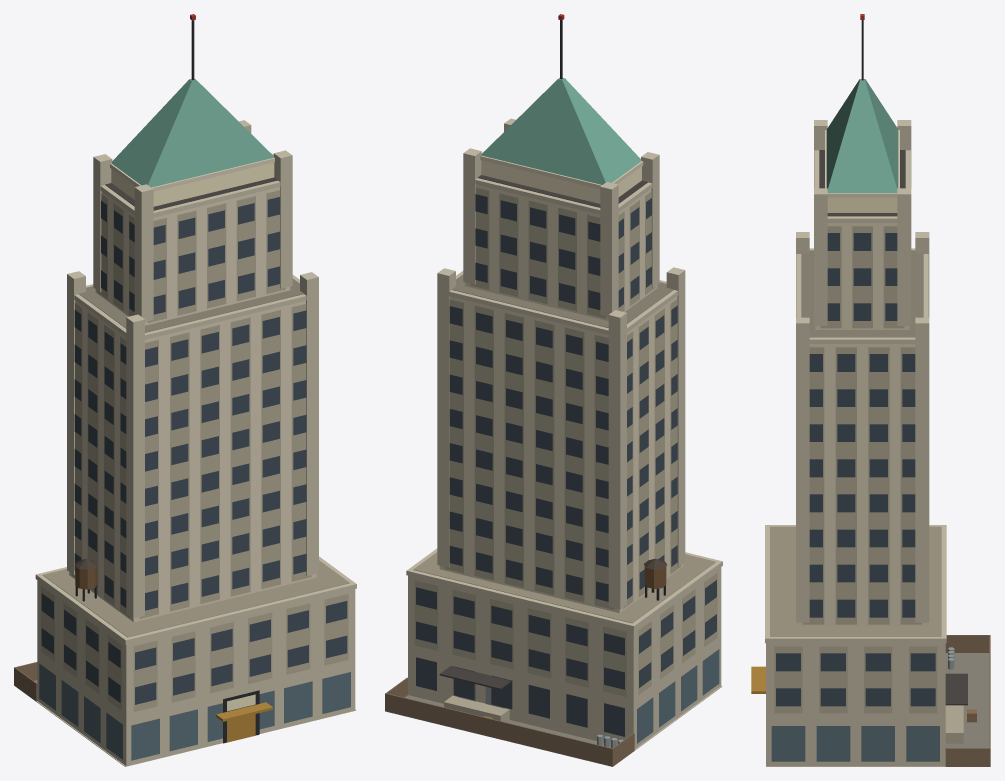
The model's file is tower_wc.glb.
3 renders of one model, left to right at view 1: azimuth 30°, elevation 25°; view 2: azimuth 150°, elevation 25°; view 3: azimuth 270°, elevation 25°, orthographic. The views are drawn at different scales.
Visible parts, largest first — view 1: tower_wc; view 2: tower_wc; view 3: tower_wc.
Part boxes in pixels (x1,y1,x2,y2): tower_wc: [14, 14, 356, 766]; tower_wc: [385, 14, 722, 766]; tower_wc: [751, 14, 990, 766].
Size of the model in its own units: 30 by 85.41 by 26.62.
